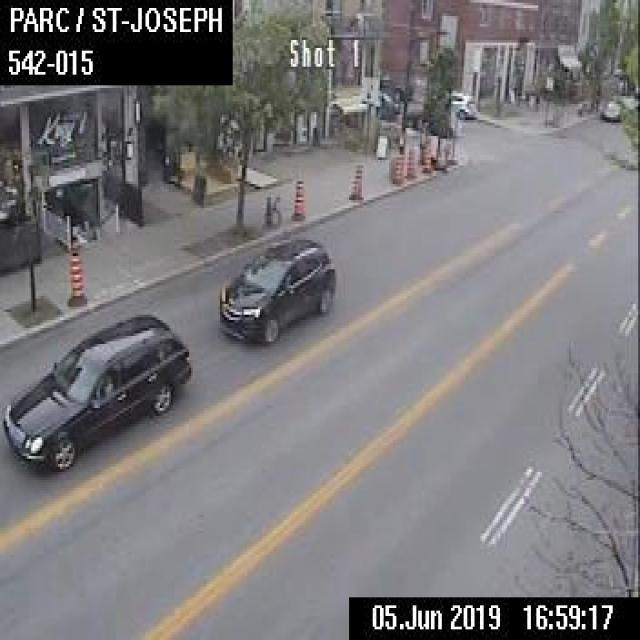construction: (67, 245, 84, 303), (288, 178, 306, 218), (346, 162, 362, 198), (388, 152, 402, 182), (420, 135, 431, 171), (404, 145, 414, 177)
vehicle: (0, 310, 191, 472), (216, 236, 334, 344), (375, 88, 405, 118), (449, 87, 476, 117), (598, 96, 626, 120)
